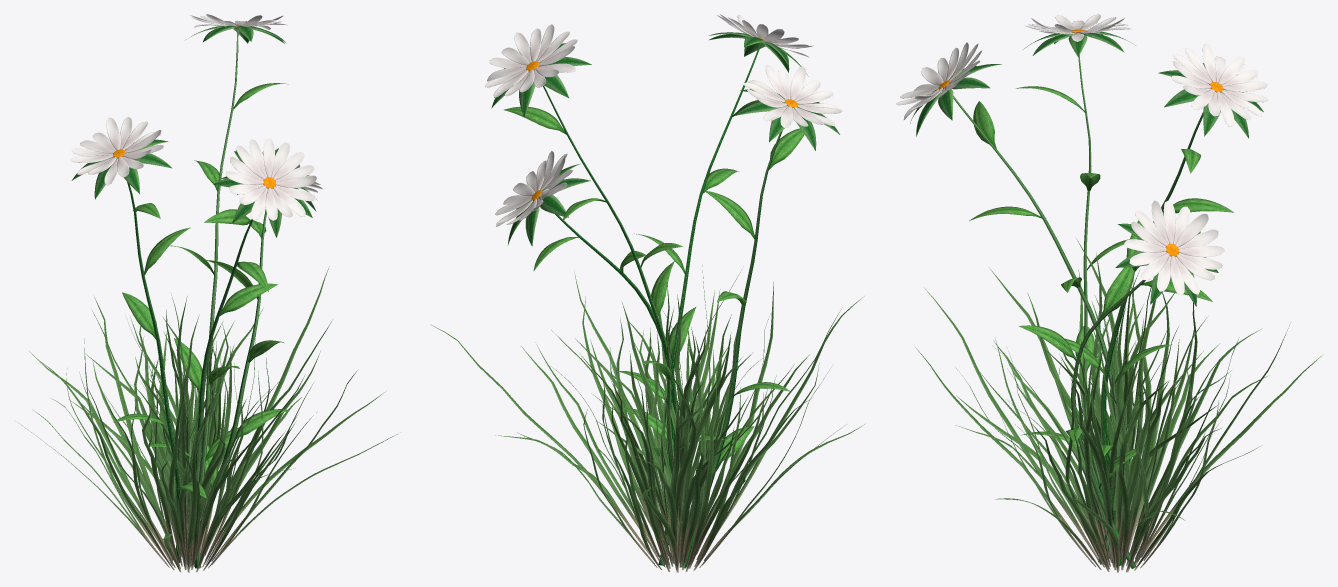
File: white_flower_optimized.glb
3 views of the same model, side by side, from view 1: azimuth 30°, elevation 25°; view 2: azimuth 150°, elevation 25°; view 3: azimuth 270°, elevation 25° (orthographic). The views are drawn at different scales.
Parts seen in each view (by area): view 1: longe_grass, white_flower; view 2: longe_grass, white_flower; view 3: longe_grass, white_flower.
Boxes of the visible parts, <box> form: longe_grass: <box>17,266,400,572</box>; white_flower: <box>70,14,322,568</box>; longe_grass: <box>430,264,864,572</box>; white_flower: <box>485,14,842,568</box>; longe_grass: <box>915,238,1323,572</box>; white_flower: <box>896,14,1268,568</box>.
Bounding box in the file's own units: 59.98 × 81.64 × 57.29.
5 materials, 5 textured.
